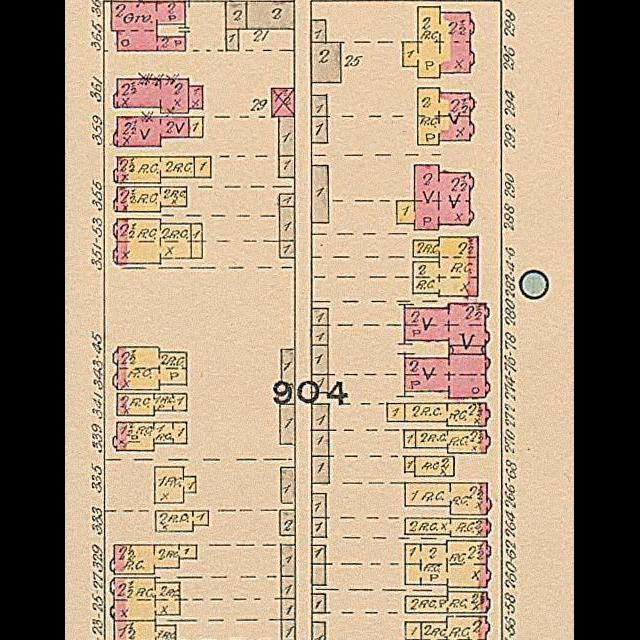building-footprints: (397, 165, 474, 229), (404, 7, 474, 77), (405, 541, 491, 587), (413, 236, 478, 295), (405, 353, 490, 397), (112, 1, 186, 50), (405, 303, 490, 345), (114, 218, 192, 263), (418, 87, 475, 144), (113, 347, 187, 389), (111, 577, 180, 620), (405, 482, 491, 514), (111, 544, 197, 574), (114, 79, 189, 113), (114, 117, 189, 146), (114, 421, 187, 450), (115, 156, 195, 182), (405, 403, 490, 425), (406, 591, 490, 612), (115, 187, 187, 211), (416, 430, 491, 453), (422, 616, 490, 640), (406, 518, 491, 536), (118, 393, 187, 415), (155, 466, 196, 503), (248, 1, 295, 29), (311, 42, 342, 82), (157, 510, 209, 531), (312, 165, 329, 222), (415, 456, 455, 476), (282, 349, 296, 403), (272, 88, 295, 116), (279, 116, 295, 155), (280, 404, 295, 443), (226, 1, 247, 28), (281, 467, 296, 503), (280, 206, 295, 241), (312, 456, 330, 483), (312, 430, 330, 456), (312, 345, 328, 374), (312, 403, 329, 430), (282, 544, 296, 576), (312, 116, 328, 142), (280, 510, 296, 535), (311, 19, 327, 42), (195, 157, 212, 177), (313, 493, 327, 517), (280, 155, 295, 177), (312, 325, 328, 345), (312, 95, 327, 116), (189, 86, 203, 108), (312, 563, 326, 585), (282, 576, 296, 598), (312, 374, 329, 392), (388, 403, 405, 421), (449, 345, 486, 353), (189, 116, 203, 137), (282, 598, 296, 619), (282, 619, 296, 640), (280, 240, 296, 258), (313, 517, 327, 537), (312, 593, 326, 613), (226, 29, 239, 50), (312, 308, 328, 325), (406, 622, 421, 639), (312, 622, 326, 640), (313, 545, 326, 564), (404, 429, 416, 447), (191, 223, 202, 241), (192, 240, 203, 258), (280, 194, 295, 206), (405, 456, 416, 471)
